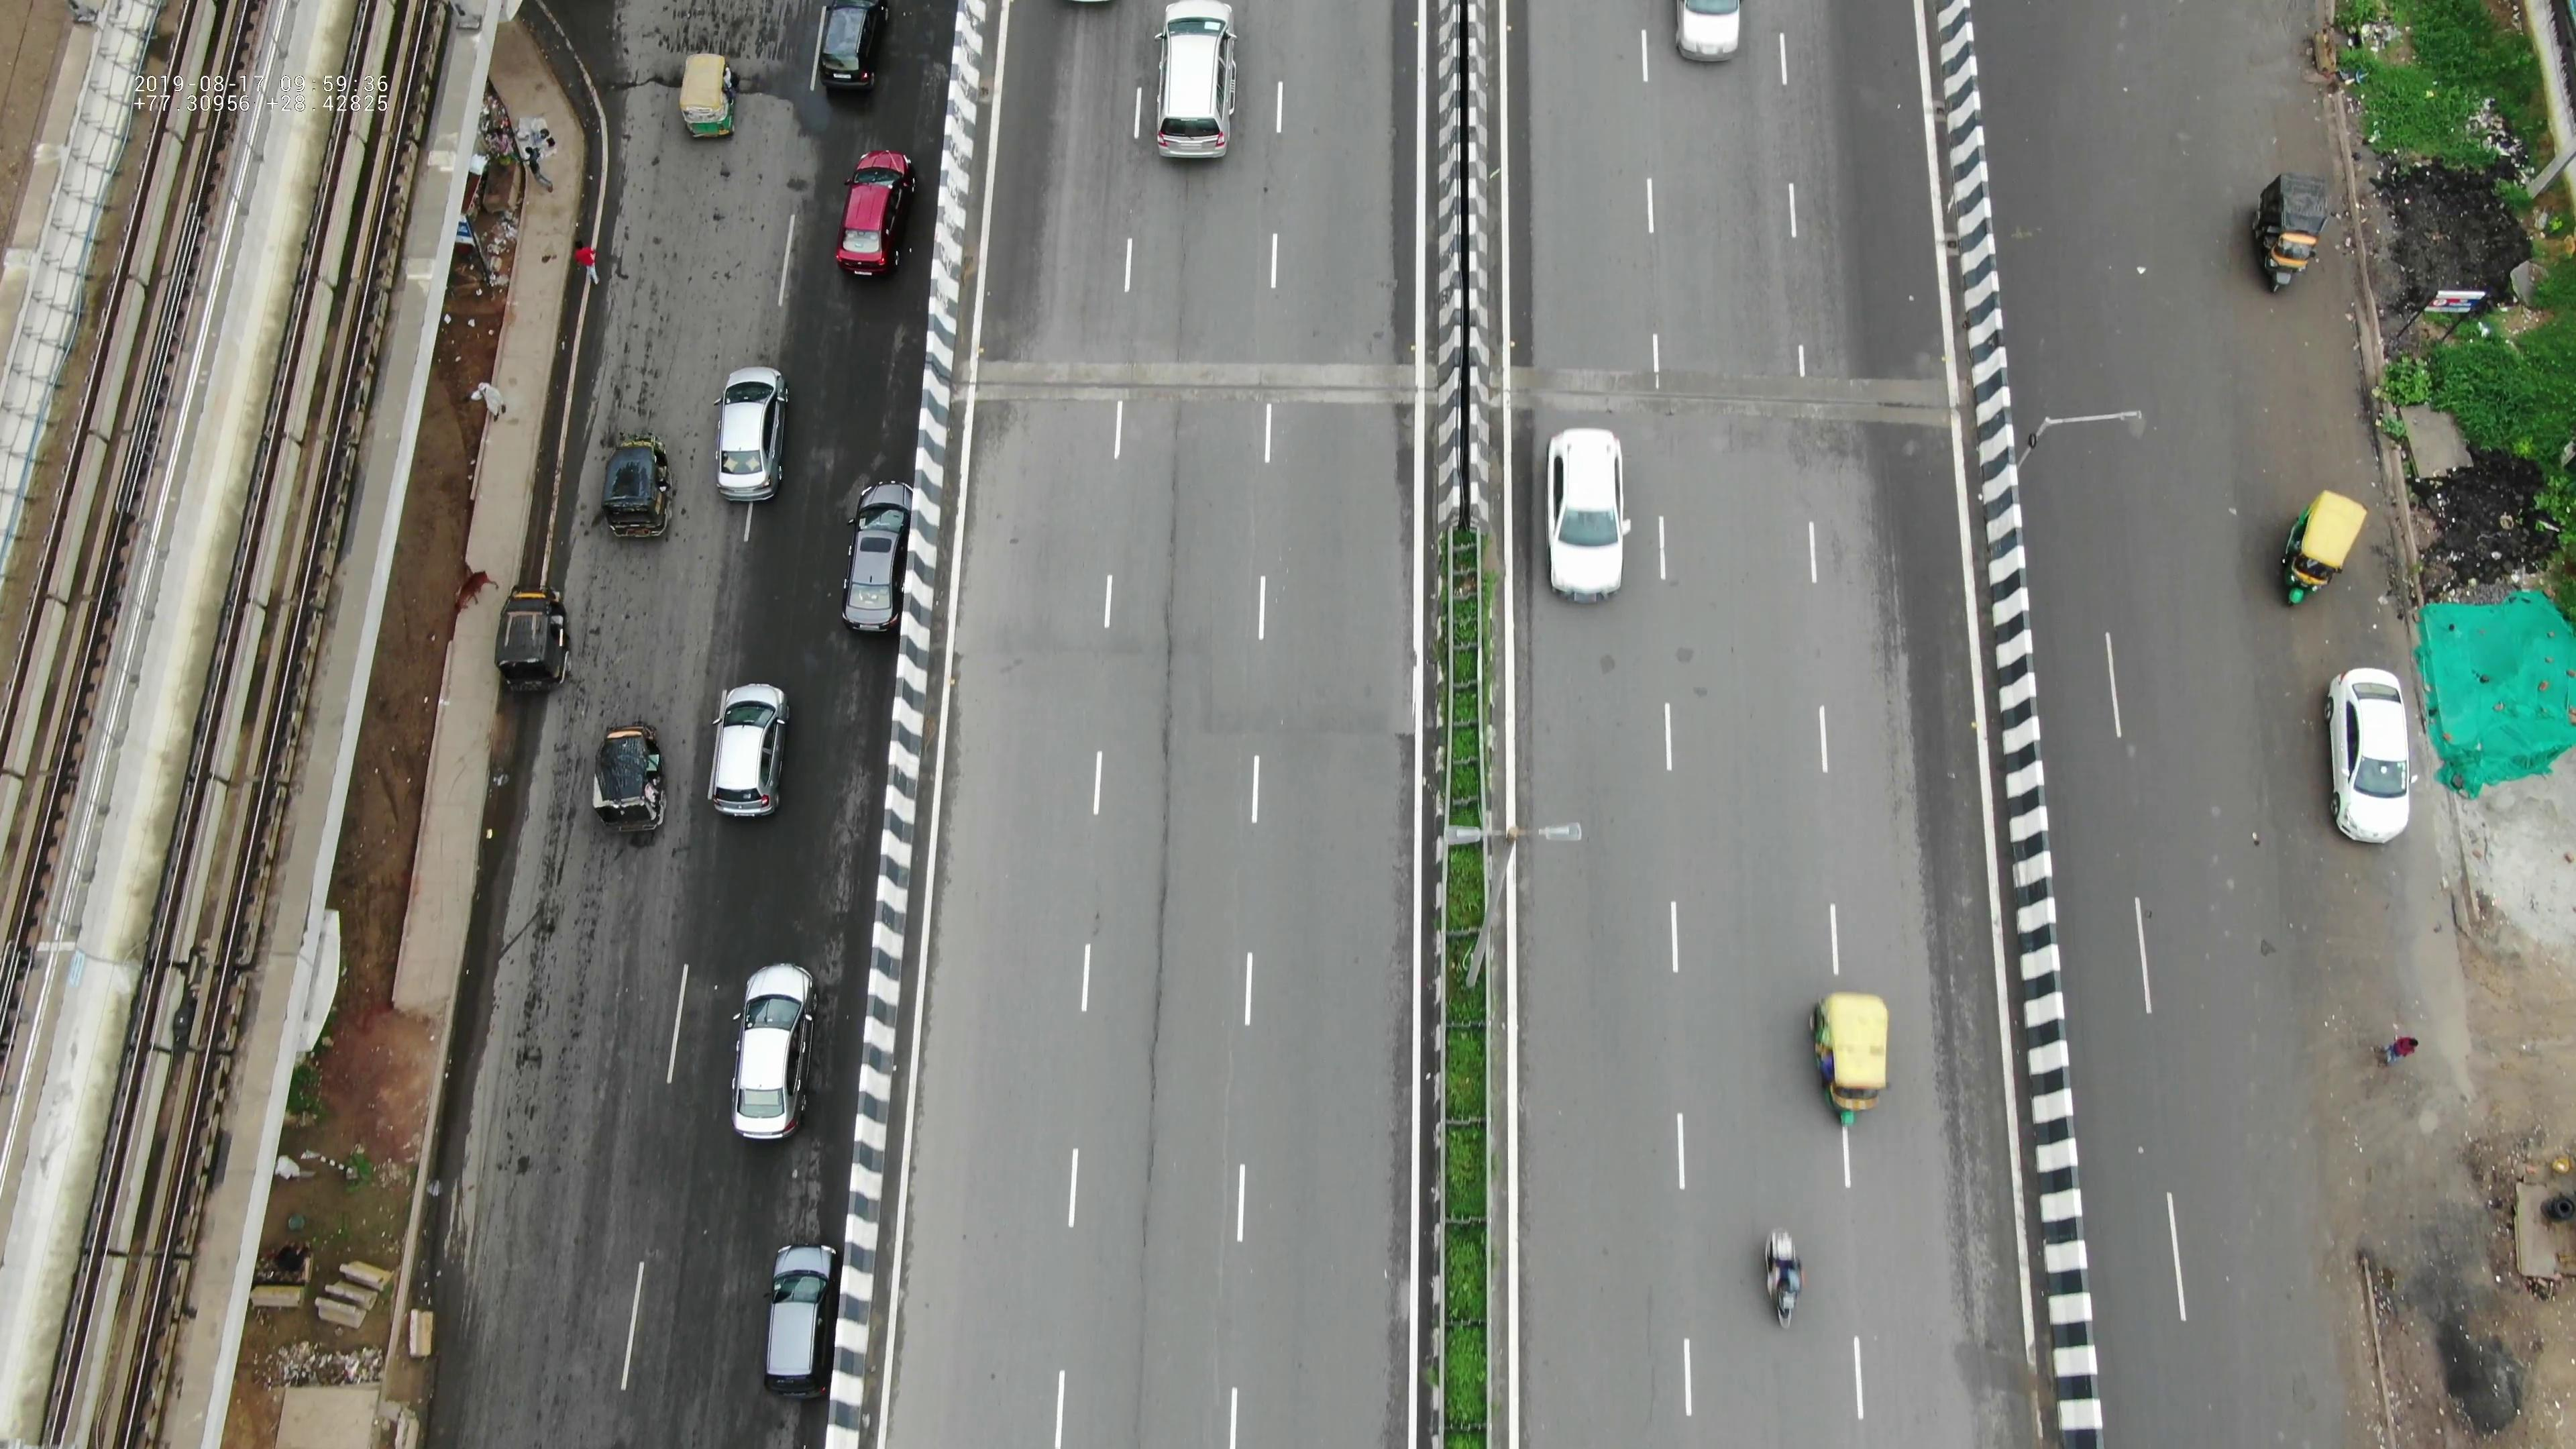Muddy_road: (2353, 1166, 2534, 1444), (2238, 283, 2380, 488), (2319, 876, 2454, 1021)
Ravelling: (1132, 814, 1187, 1208), (1152, 395, 1196, 778)
Road_side_garbage: (2337, 5, 2530, 166)
